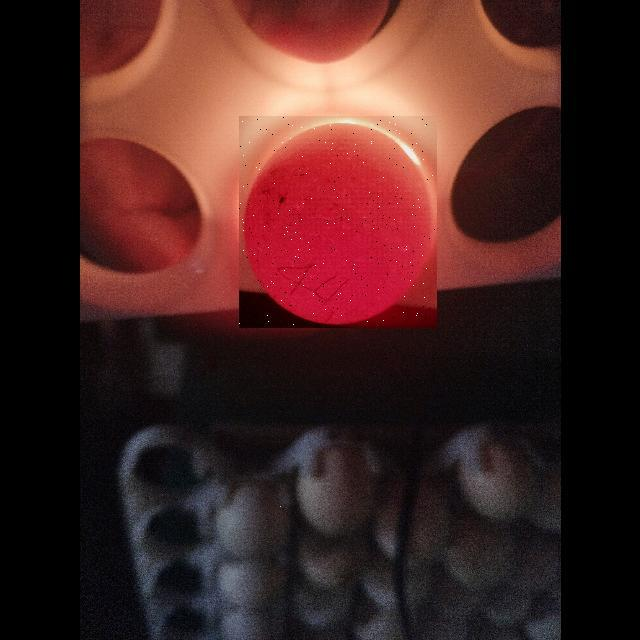A - Good: (239, 116, 437, 328)
